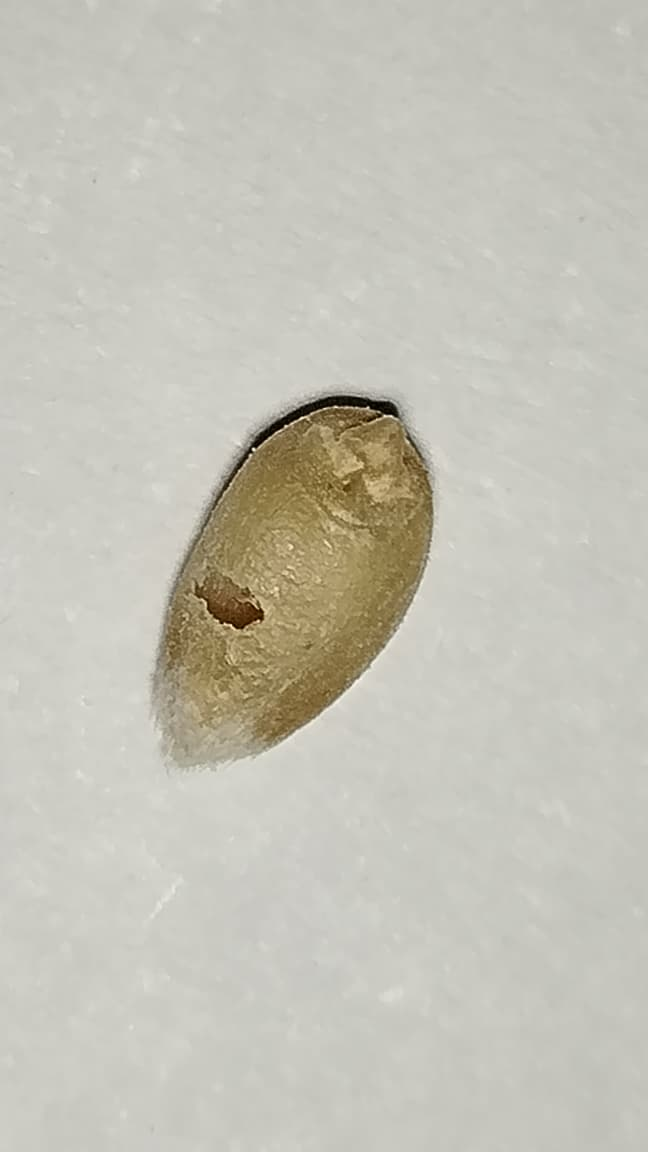damage: (156, 403, 433, 766)
insectdamage: (179, 549, 291, 653)
